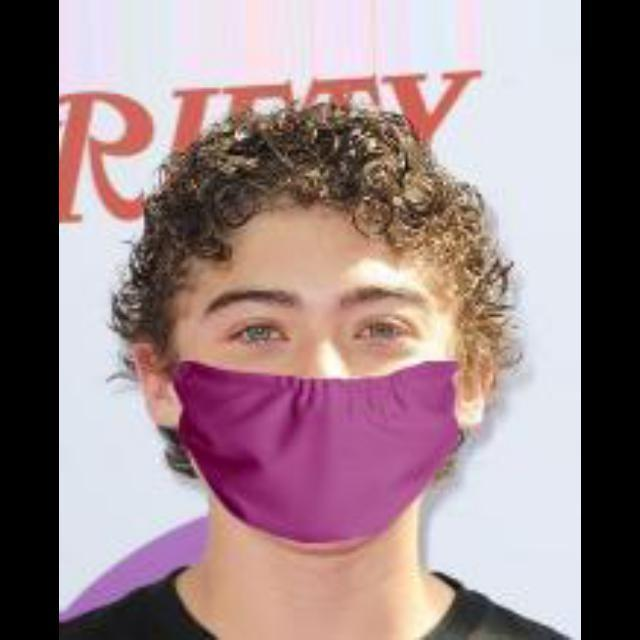suspicion: (140, 129, 468, 519)
